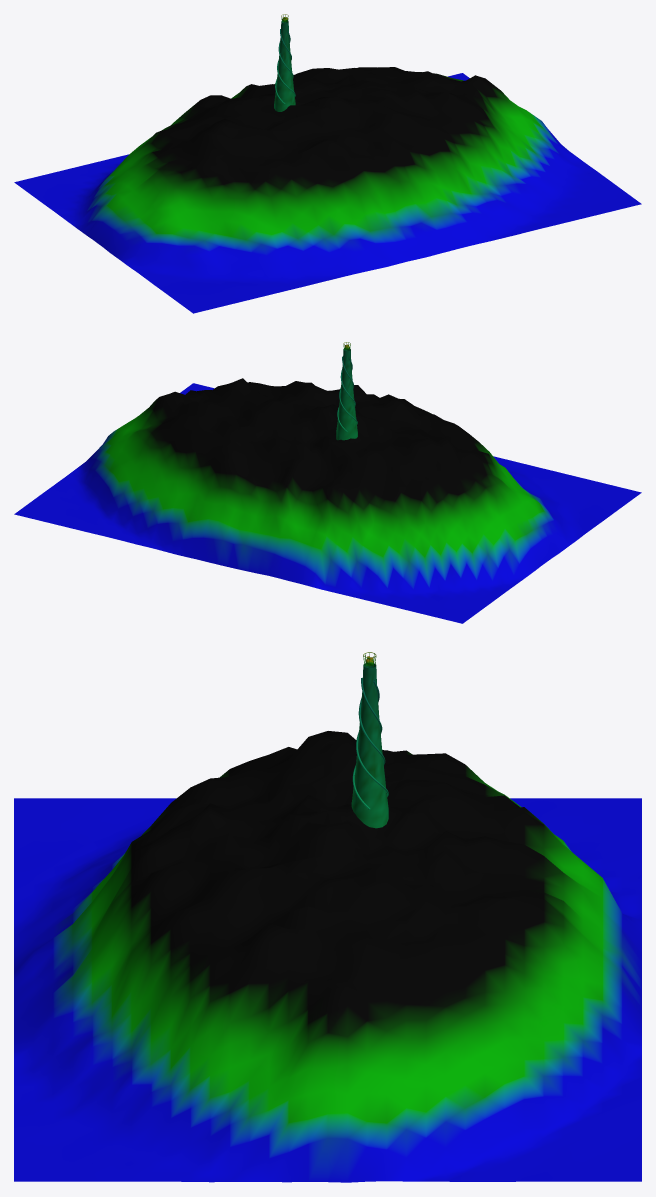
File: coilspire_headland.glb
3 renders of one model, top to bottom at view 1: azimuth 30°, elevation 25°; view 2: azimuth 150°, elevation 25°; view 3: azimuth 270°, elevation 25°, orthographic. The views are drawn at different scales.
Visible parts, largest first — view 1: coilspire_headland; view 2: coilspire_headland; view 3: coilspire_headland.
Boxes of the visible parts, x1=… form: coilspire_headland: x1=14, y1=14, x2=641, y2=313; coilspire_headland: x1=14, y1=342, x2=641, y2=623; coilspire_headland: x1=14, y1=652, x2=641, y2=1182.
Size of what is drawn, in the model's own units: 260 by 97.96 by 180.
